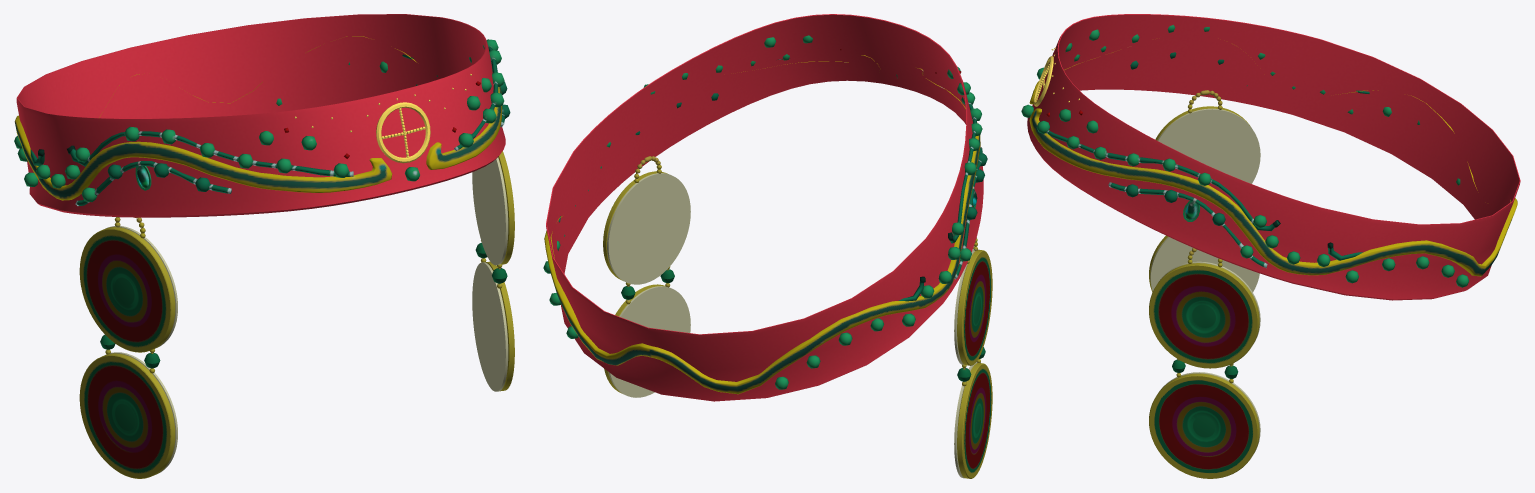
Rendered from koltsa.glb.
3 views of the same model, side by side, from view 1: azimuth 30°, elevation 25°; view 2: azimuth 150°, elevation 25°; view 3: azimuth 270°, elevation 25° (orthographic). The views are drawn at different scales.
Parts seen in each view (by area): view 1: Visochnye_koltsa; view 2: Visochnye_koltsa; view 3: Visochnye_koltsa.
Boxes of the visible parts, x1=… form: Visochnye_koltsa: x1=14, y1=14, x2=514, y2=478; Visochnye_koltsa: x1=543, y1=14, x2=992, y2=478; Visochnye_koltsa: x1=1021, y1=14, x2=1520, y2=478.
Bounding box in the file's own units: 29.72 × 27.15 × 35.14.
Materials: 1 (1 with a texture image).
